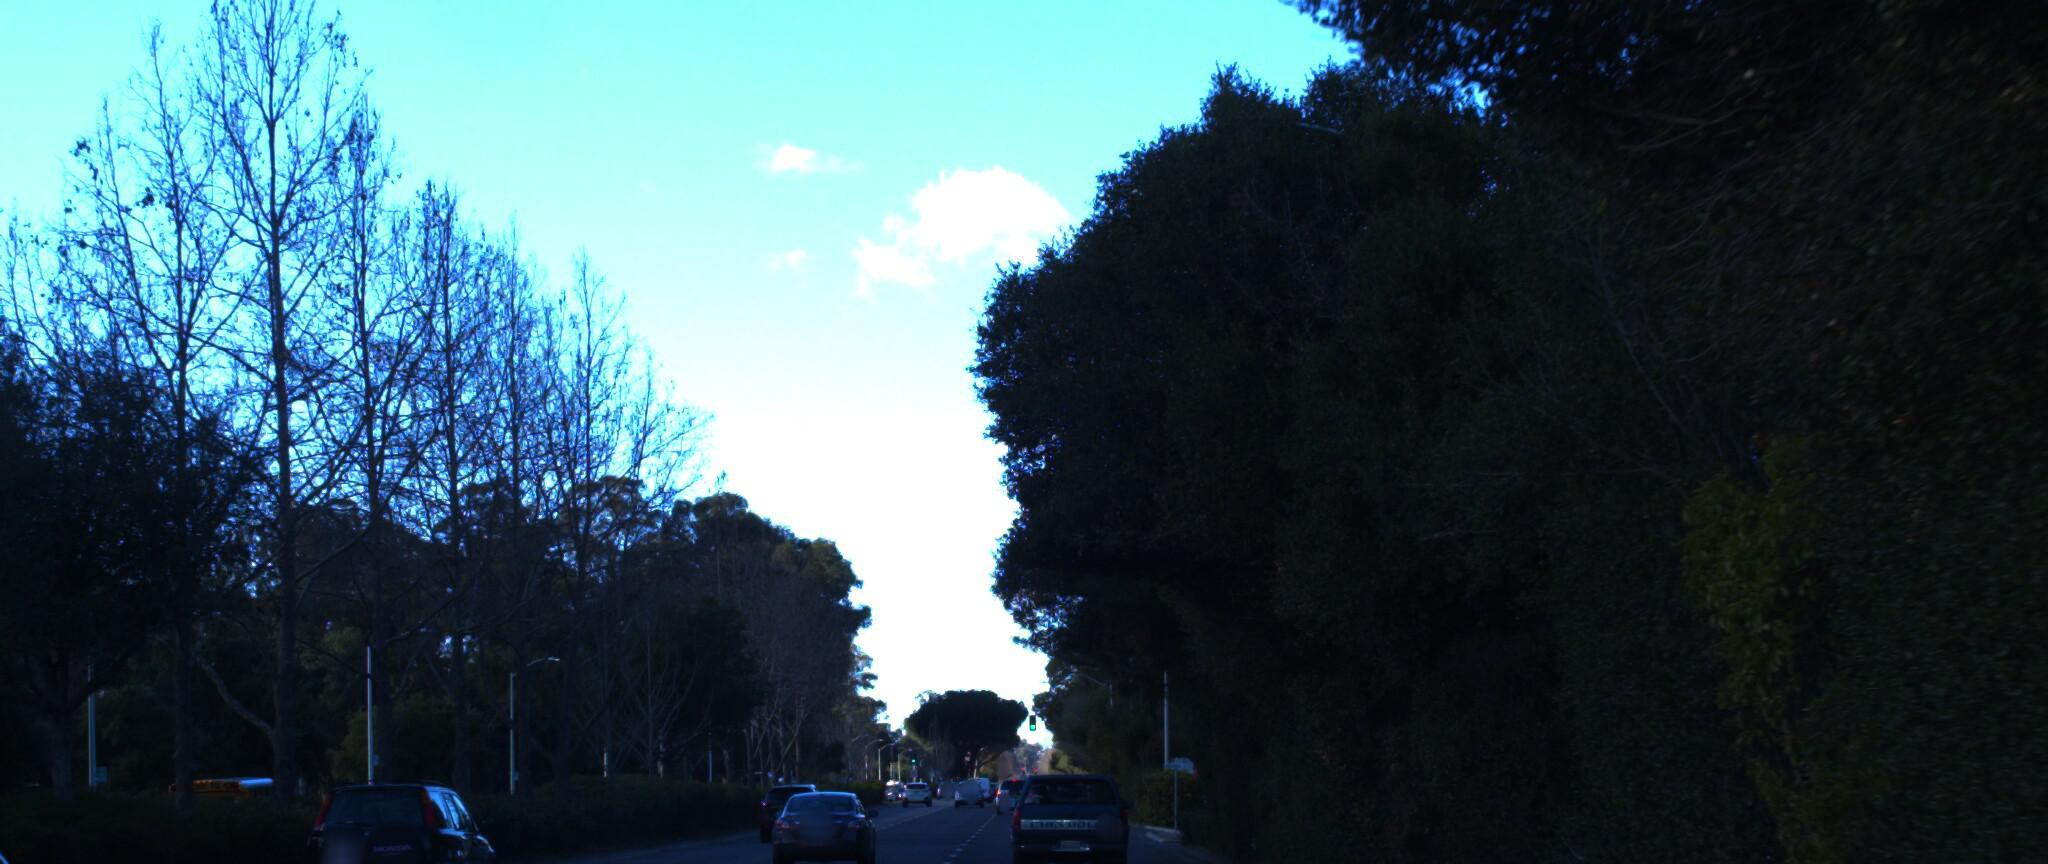car: (0, 670, 222, 864), (280, 745, 515, 864), (987, 754, 1142, 864), (761, 775, 880, 860)
